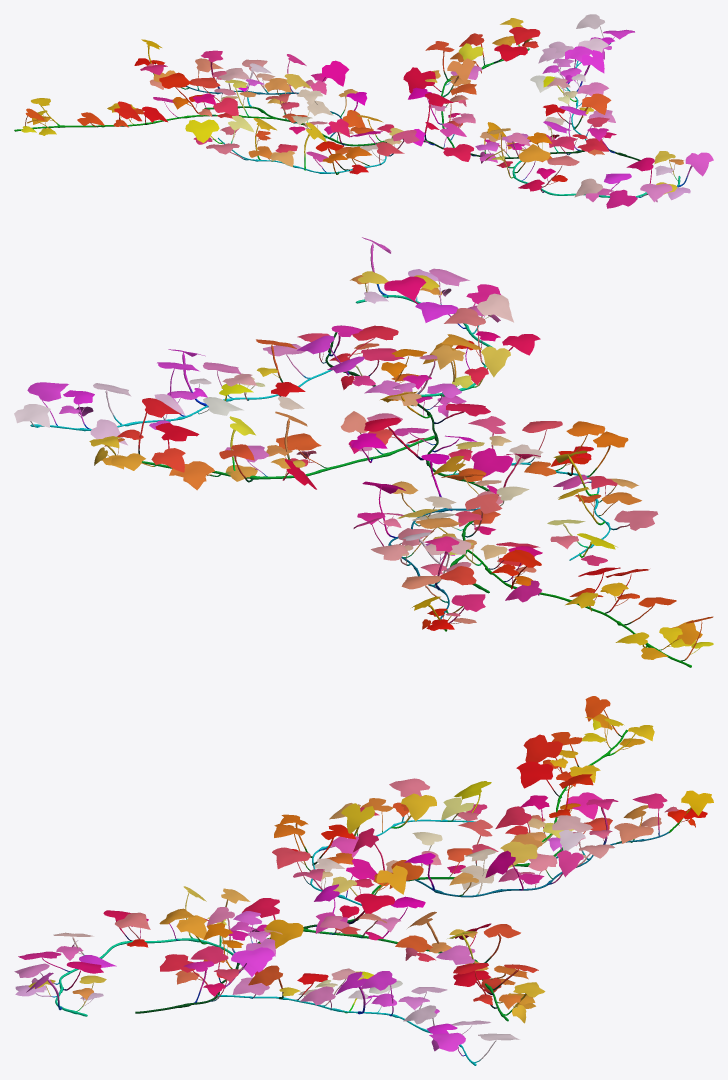
File: English_Ivy_xfcnebhqx_High_xfcnebhqx_VarA_LOD0.fbx
3 views of the same model, one above another, from view 1: azimuth 30°, elevation 25°; view 2: azimuth 150°, elevation 25°; view 3: azimuth 270°, elevation 25° (orthographic). The views are drawn at different scales.
Parts seen in each view (by area): view 1: _qvku_VarA_LOD0; view 2: _qvku_VarA_LOD0; view 3: _qvku_VarA_LOD0.
Boxes of the visible parts, <box> form: _qvku_VarA_LOD0: <box>14,14,713,208</box>; _qvku_VarA_LOD0: <box>14,237,713,667</box>; _qvku_VarA_LOD0: <box>14,696,713,1065</box>.
Size of the model in its own units: 175 by 13.41 by 150.
